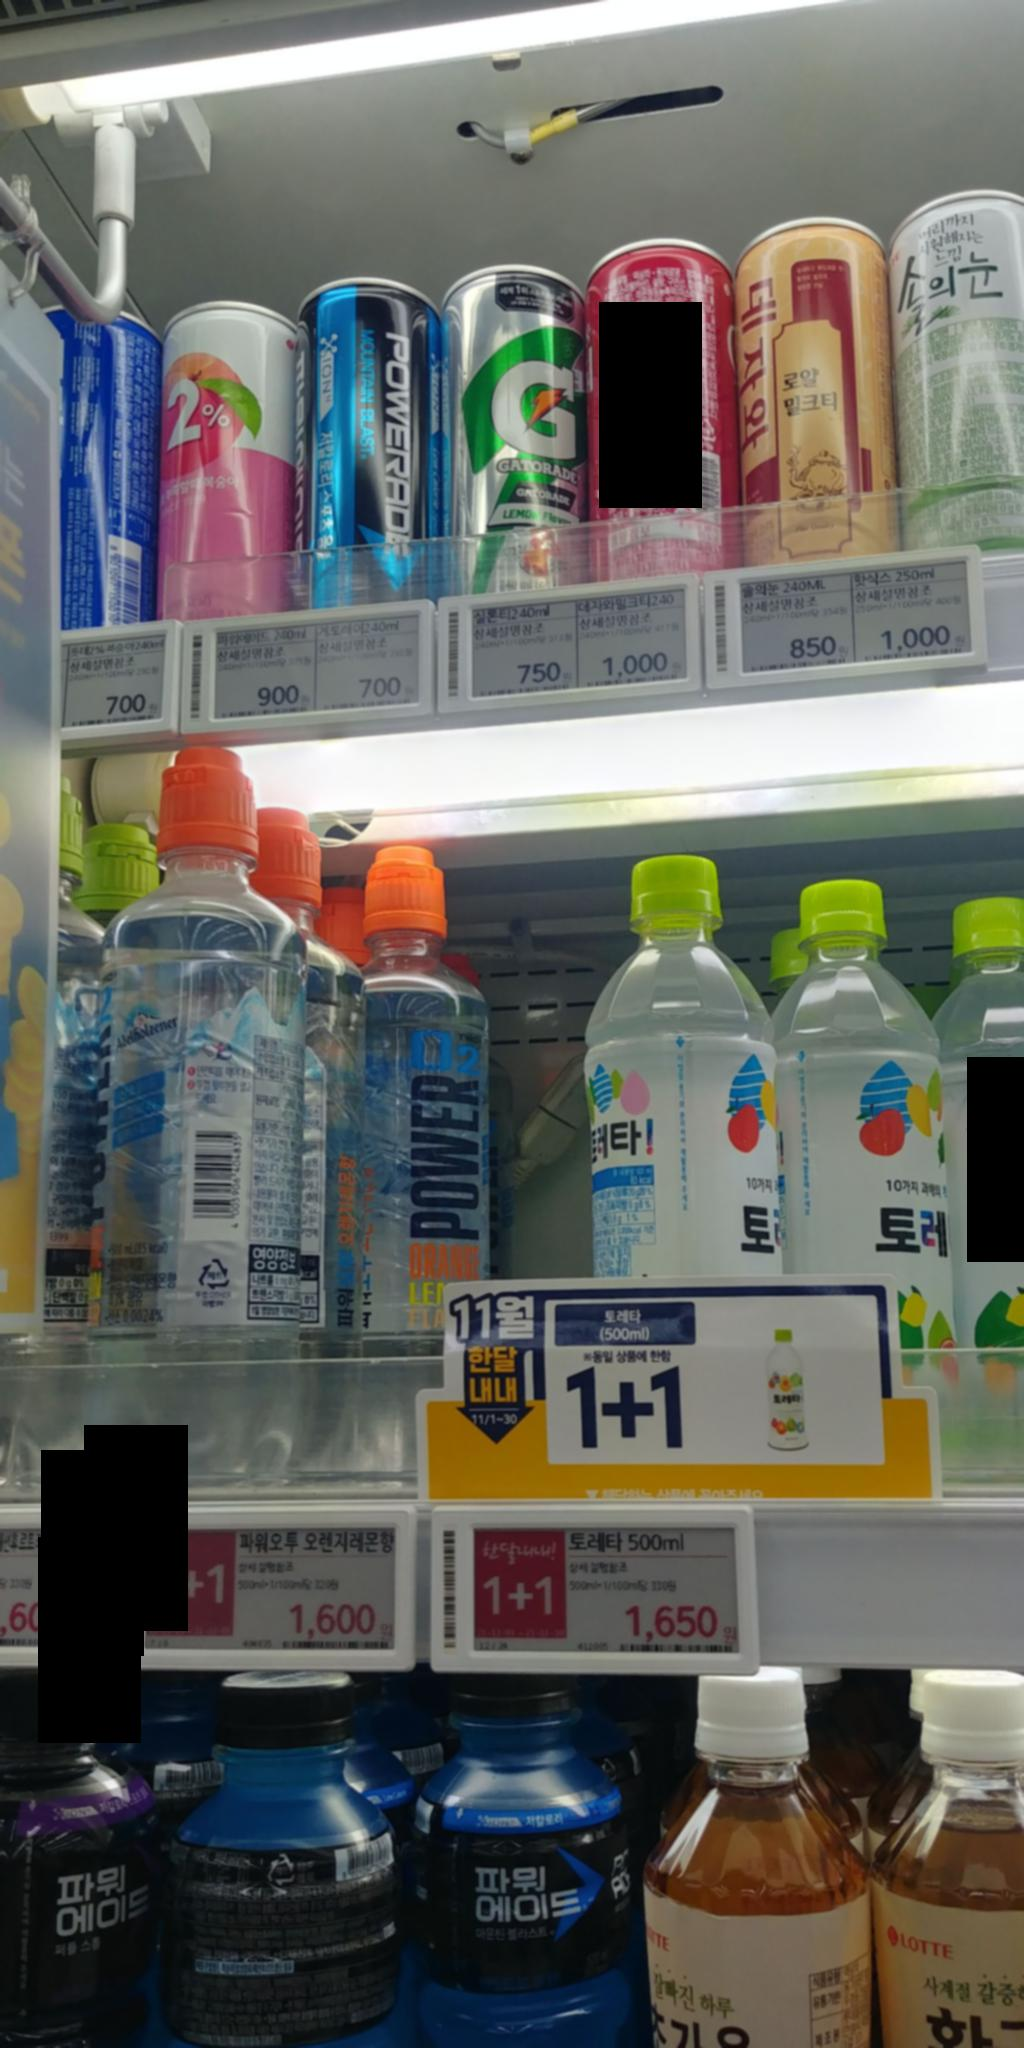powerO2_orange: (94, 743, 306, 1489), (330, 841, 498, 1481)
powerade_mountainblast: (400, 1677, 643, 2048)
toreta: (768, 879, 960, 1405), (572, 858, 790, 1281)
